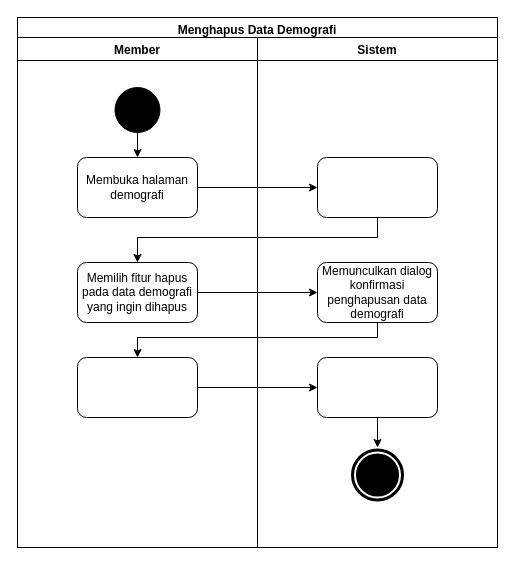
Image size: 515x565. Some labels were removed from this diagram. Here are the shapes that lost their labels. From the top down, the centre of each, then its label:
At [377,187]: "Menampilkan halaman demografi".
At [137,387]: "Melakukan konfirmasi".
At [377,387]: "Menghapus data".
